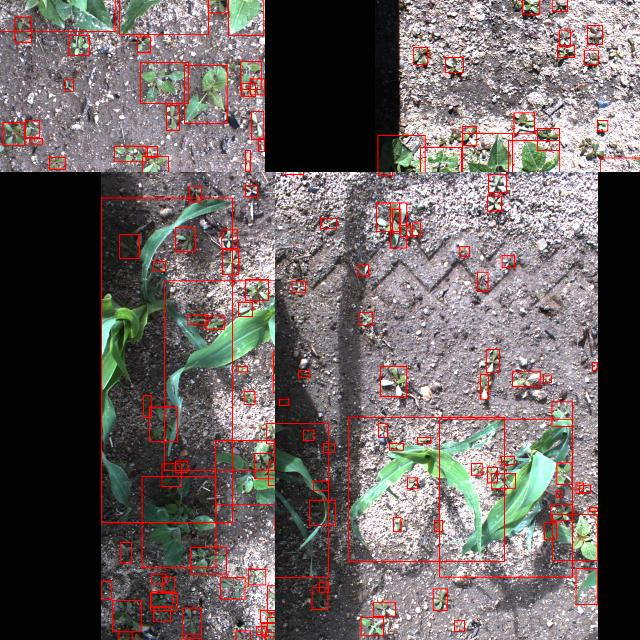crop: (101, 198, 232, 522), (348, 416, 504, 562), (164, 280, 275, 469), (440, 419, 572, 577), (275, 423, 327, 577), (0, 0, 115, 31), (119, 0, 209, 35), (185, 65, 228, 123), (462, 134, 512, 172), (377, 135, 424, 172), (508, 140, 559, 172), (228, 0, 264, 35), (420, 146, 461, 172), (576, 568, 598, 604)
weed: (142, 477, 216, 568), (215, 441, 275, 505), (552, 514, 598, 560), (140, 63, 188, 104), (149, 406, 177, 442), (190, 548, 226, 574), (112, 600, 140, 632), (379, 366, 406, 396), (389, 202, 406, 248), (376, 202, 399, 232), (309, 500, 335, 526), (241, 62, 261, 90), (254, 453, 275, 479), (2, 122, 24, 146), (182, 608, 202, 634), (114, 146, 146, 162), (537, 128, 559, 150), (175, 228, 195, 252), (119, 234, 139, 258), (220, 578, 244, 598), (552, 402, 572, 426), (143, 155, 169, 172), (514, 112, 534, 134), (246, 280, 268, 300), (161, 464, 181, 486), (150, 594, 177, 610), (361, 618, 384, 636), (69, 35, 89, 55), (512, 372, 540, 386), (15, 18, 31, 42), (222, 250, 238, 274), (550, 504, 574, 520), (490, 474, 516, 488), (311, 587, 327, 609), (252, 112, 264, 140), (489, 175, 507, 193), (167, 106, 180, 130), (150, 592, 172, 606), (558, 463, 572, 485), (433, 588, 447, 610), (373, 602, 395, 616), (24, 120, 40, 138), (221, 230, 237, 248), (248, 569, 266, 585), (486, 350, 499, 372), (462, 126, 476, 146), (119, 542, 131, 564), (208, 0, 228, 13), (154, 606, 170, 622), (445, 58, 463, 72), (588, 26, 602, 44), (206, 316, 224, 330), (522, 0, 539, 14), (392, 208, 401, 234), (250, 79, 264, 95), (413, 48, 427, 64), (188, 186, 202, 202), (486, 196, 502, 210), (267, 585, 275, 612), (544, 522, 556, 540), (259, 609, 275, 622), (480, 374, 488, 400), (559, 29, 571, 46), (188, 314, 208, 324), (584, 50, 598, 64), (238, 302, 252, 316), (49, 157, 65, 169), (138, 37, 150, 53), (558, 45, 574, 57), (162, 576, 174, 592), (266, 424, 275, 444), (101, 581, 111, 599), (478, 272, 488, 290), (552, 0, 568, 11), (143, 395, 151, 417), (262, 623, 275, 636), (242, 84, 256, 96), (268, 462, 275, 486), (360, 312, 372, 326), (150, 574, 166, 584), (320, 218, 336, 228), (487, 467, 497, 483), (313, 481, 329, 491), (235, 630, 250, 640), (502, 255, 514, 267), (291, 282, 305, 292), (378, 423, 388, 437), (245, 186, 257, 197), (243, 392, 254, 404), (147, 146, 157, 158), (153, 261, 165, 271), (175, 462, 187, 472), (401, 225, 411, 237), (358, 264, 368, 276), (472, 463, 482, 475), (118, 631, 131, 640), (393, 518, 401, 532), (389, 442, 403, 450), (433, 520, 442, 532), (268, 617, 275, 632), (412, 222, 420, 235), (598, 121, 608, 131), (460, 246, 470, 256), (303, 430, 313, 440), (407, 478, 417, 488), (454, 621, 464, 631), (319, 582, 329, 592), (322, 443, 333, 452), (65, 80, 73, 92), (297, 370, 309, 378), (502, 456, 514, 464), (265, 631, 275, 640), (246, 150, 250, 172), (259, 138, 265, 152), (256, 626, 266, 634), (580, 485, 590, 493), (576, 483, 584, 493), (30, 138, 42, 144), (418, 438, 430, 444), (278, 399, 288, 405), (378, 172, 392, 176), (272, 377, 275, 393), (238, 366, 246, 372), (592, 363, 598, 371), (543, 376, 551, 382), (556, 492, 562, 498), (590, 507, 598, 511)
